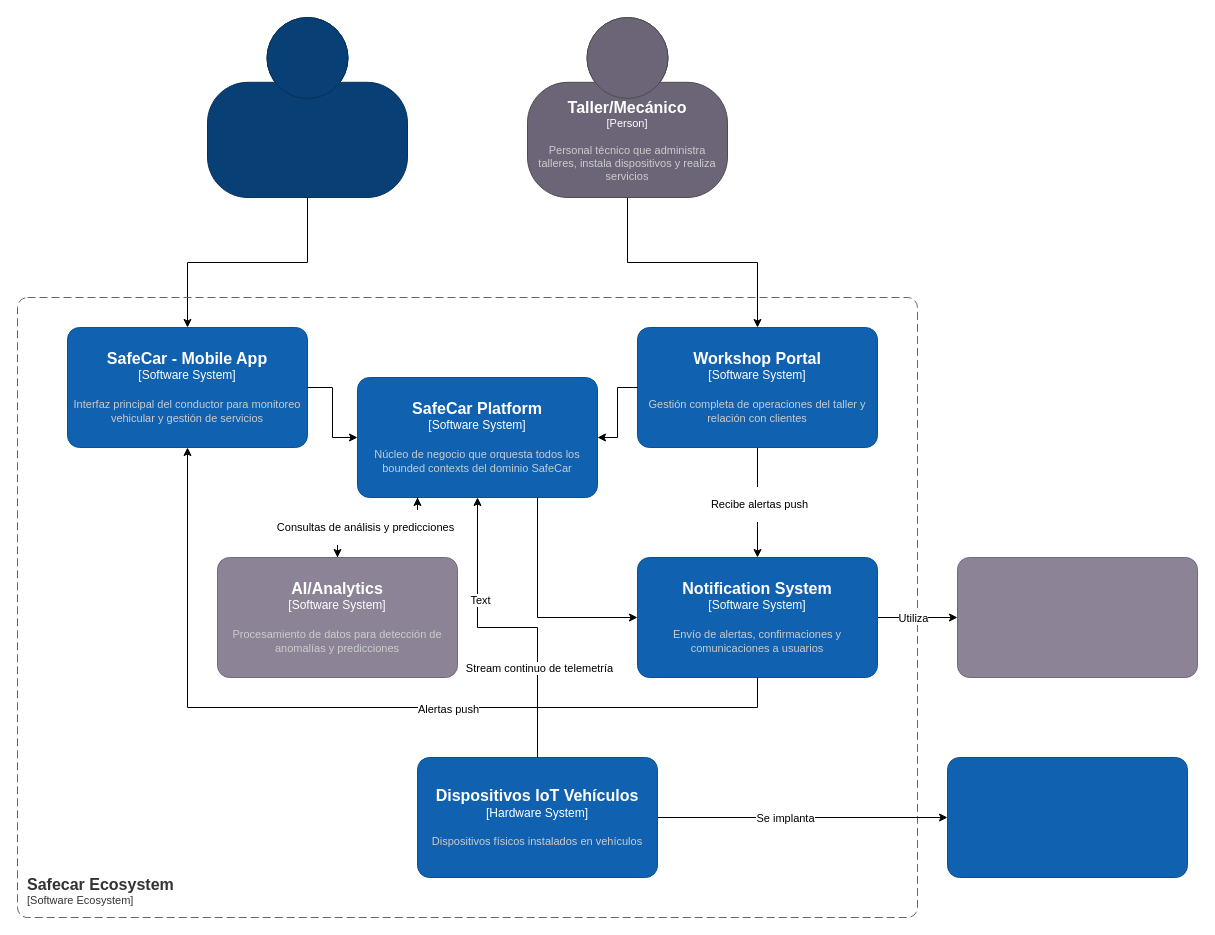
Some shapes in this 1215 by 935 pixel diagram are drawn without their labels. The centre of each missing label's shape, as x and y in pixels:
"Conductores [Person] Propietarios de vehículos" goes at (307,107).
"Driver's vehicle [Unidad Vehicular] Description of software system." goes at (1067,817).
"Twilio [Software System] Description of external software system." goes at (1077,617).
